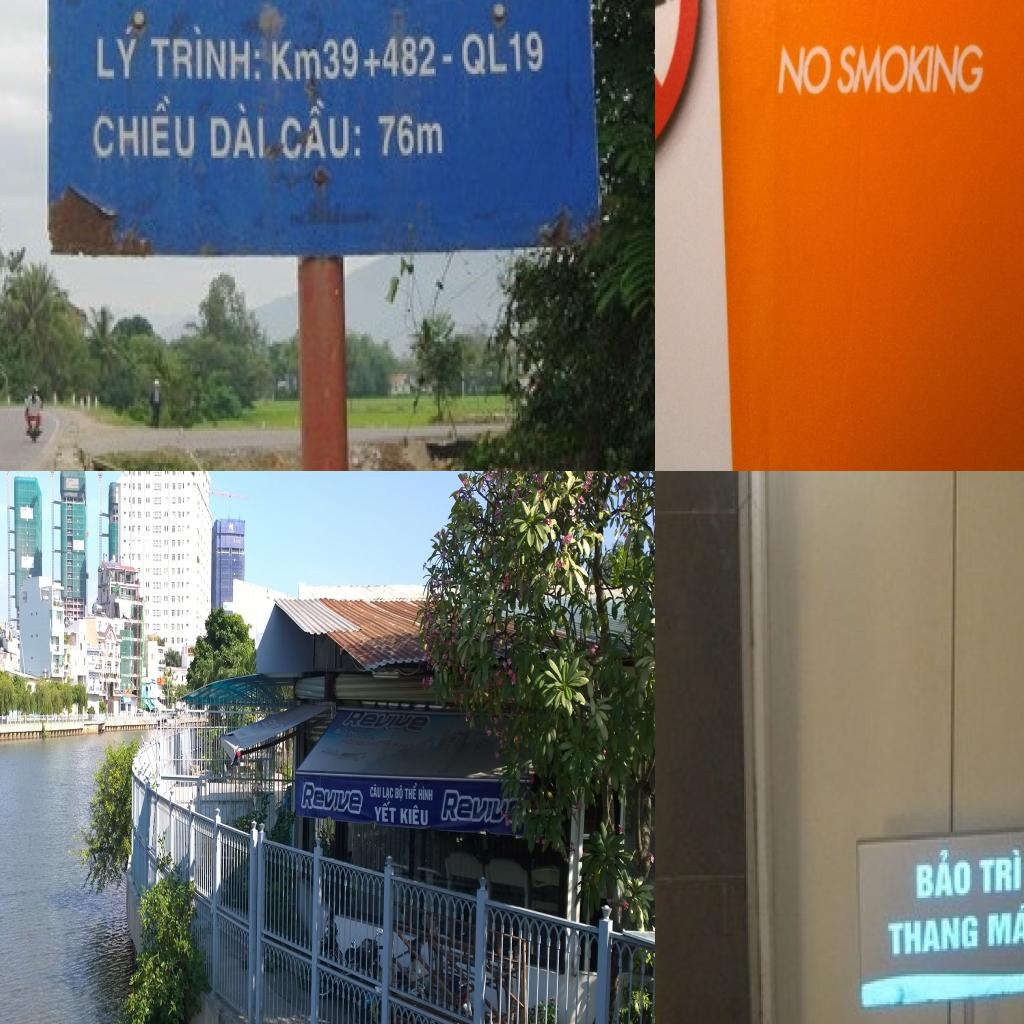text: (90, 91, 198, 163), (149, 22, 265, 84), (280, 101, 364, 161), (883, 913, 981, 961), (270, 34, 360, 81), (774, 37, 836, 104), (458, 32, 546, 76), (209, 101, 267, 161), (913, 848, 975, 903), (299, 776, 366, 820), (93, 24, 142, 81), (975, 844, 1024, 900), (382, 36, 440, 78), (340, 710, 433, 736), (984, 903, 1024, 951), (362, 47, 384, 81), (400, 803, 430, 827), (373, 801, 398, 826), (340, 735, 366, 750), (390, 738, 418, 751), (417, 782, 434, 803), (348, 728, 376, 740), (404, 780, 418, 803), (365, 739, 392, 748), (393, 782, 404, 804), (369, 782, 381, 800), (382, 786, 394, 802), (335, 725, 349, 736)
